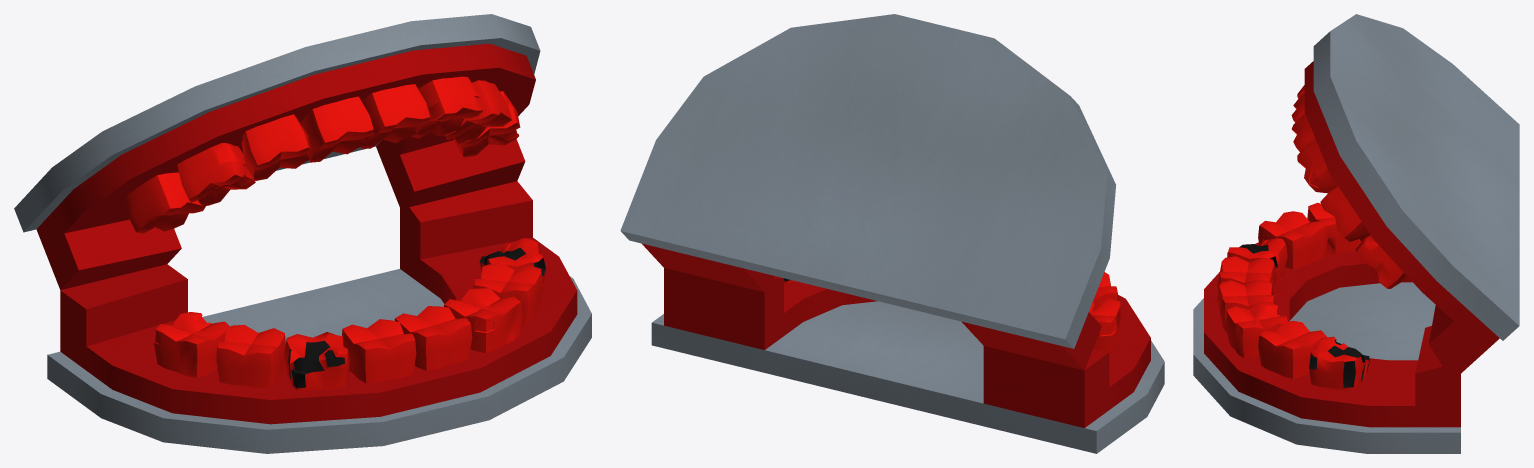
The model's file is OdontologiaPacked.fbx.
3 views of the same model, side by side, from view 1: azimuth 30°, elevation 25°; view 2: azimuth 150°, elevation 25°; view 3: azimuth 270°, elevation 25° (orthographic). The views are drawn at different scales.
Visible parts, largest first — view 1: DentDown, DentUp, Diente.005, Diente.007, Diente.008, Diente.001, Diente.006, Diente.015, Diente.013, Diente.014, Diente.002, Diente.016 (+6 smaller); view 2: DentUp, DentDown, Diente.008; view 3: DentUp, DentDown, Diente.003, Diente.007, Diente.004, Diente.002, Diente.001, Diente.005, Diente.011, Diente.012, Diente.006, Diente.010 (+2 smaller).
Part boxes in pixels (x1=…): DentDown: x1=47, y1=181, x2=591, y2=453; DentUp: x1=14, y1=14, x2=540, y2=290; Diente.005: x1=342, y1=319, x2=416, y2=383; Diente.007: x1=215, y1=324, x2=285, y2=387; Diente.008: x1=154, y1=312, x2=229, y2=377; Diente.001: x1=394, y1=306, x2=472, y2=370; Diente.006: x1=284, y1=332, x2=350, y2=390; Diente.015: x1=177, y1=143, x2=255, y2=206; Diente.013: x1=300, y1=96, x2=373, y2=162; Diente.014: x1=241, y1=114, x2=311, y2=180; Diente.002: x1=444, y1=288, x2=522, y2=353; Diente.016: x1=125, y1=172, x2=205, y2=233; DentUp: x1=620, y1=14, x2=1115, y2=370; DentDown: x1=651, y1=268, x2=1164, y2=453; Diente.008: x1=1089, y1=298, x2=1120, y2=354; DentUp: x1=1304, y1=14, x2=1519, y2=380; DentDown: x1=1193, y1=242, x2=1460, y2=453; Diente.003: x1=1258, y1=321, x2=1326, y2=378; Diente.007: x1=1258, y1=211, x2=1327, y2=269; Diente.004: x1=1309, y1=336, x2=1369, y2=389; Diente.002: x1=1225, y1=302, x2=1287, y2=358; Diente.001: x1=1217, y1=279, x2=1275, y2=332; Diente.005: x1=1217, y1=256, x2=1276, y2=291; Diente.011: x1=1320, y1=186, x2=1370, y2=242; Diente.012: x1=1355, y1=235, x2=1407, y2=288; Diente.006: x1=1227, y1=238, x2=1287, y2=283; Diente.010: x1=1297, y1=140, x2=1337, y2=193.
Bounding box in the file's own units: 8.29 × 5.73 × 5.66.
